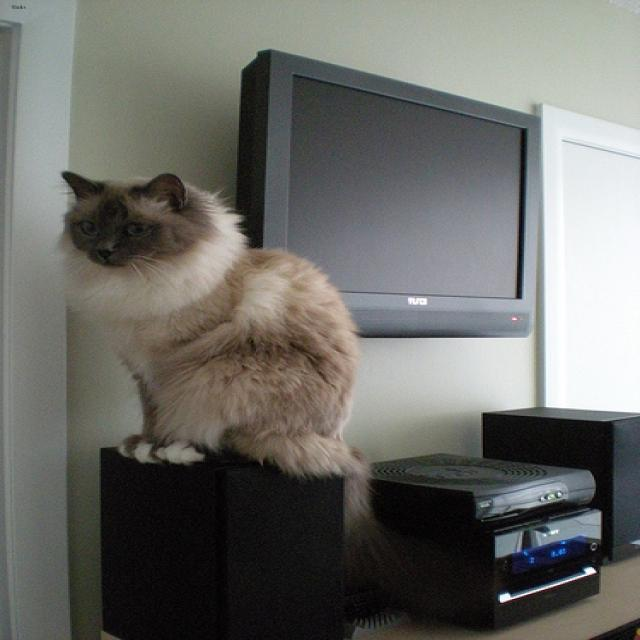Birman: (58, 169, 186, 265)
